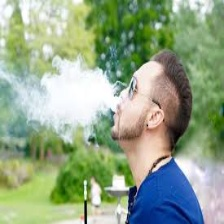smoke: (53, 70, 114, 113)
